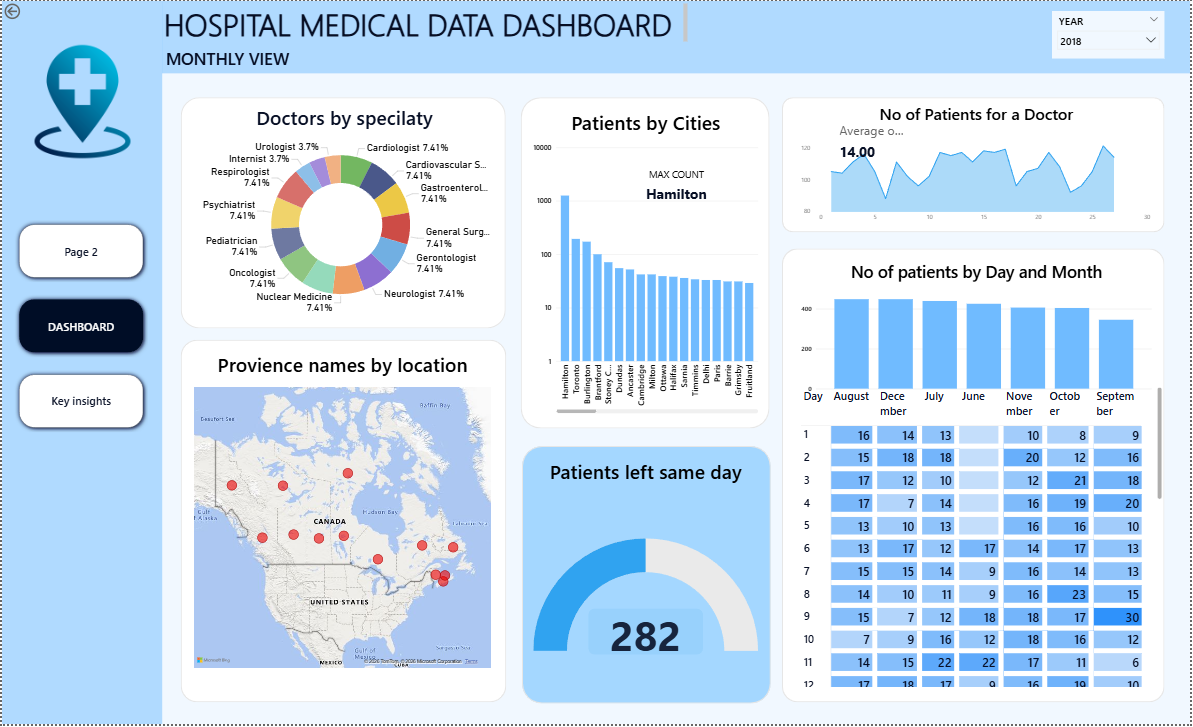

Layout of this report page (visuals, bound fields, positions):
{"tool":"powerbi","page":{"name":"DASHBOARD ","canvas":[2300,1400],"ordinal":1},"visuals":[{"type":"shape","box":[0,0,310,1400.5],"z":0},{"type":"shape","box":[308.6,0,1991.9,140.1],"z":1000},{"type":"textbox","box":[308.6,0,1021.9,85.6],"z":2000},{"type":"textbox","box":[311.2,85.6,274.9,83],"z":3000},{"type":"shape","box":[345.9,655.5,630,701.5],"z":4000},{"type":"image","box":[26.6,79.8,258.8,229.8],"z":5000},{"type":"map","fields":{"Category":["province_names.provience_name"]},"box":[367.7,742.6,582.9,590.2],"z":6000},{"type":"textbox","box":[367.7,655.5,582.9,79.8],"z":7000},{"type":"shape","box":[1509.3,478.9,740.2,878],"z":8000},{"type":"shape","box":[1509.3,186.2,740.2,261.2],"z":9000},{"type":"pivotTable","fields":{"Rows":["admissions.Day"],"Values":["admissions.No of Patients"],"Columns":["admissions.Month"]},"box":[1540.8,742.6,708.7,590.2],"z":10000},{"type":"actionButton","box":[0,0,100,40],"z":11000},{"type":"slicer","fields":{"Values":["admissions.Year"]},"box":[2031.8,19.4,217.7,91.9],"z":12000},{"type":"shape","box":[345.9,186.2,628.9,447.5],"z":13000},{"type":"columnChart","title":"No of patients by Day and Month","fields":{"Y":["admissions.No of Patients"],"Category":["admissions.Month"]},"box":[1540.8,500.7,689.4,263.7],"z":14000},{"type":"donutChart","fields":{"Category":["doctors.specialty"],"Y":["CountNonNull(doctors.doctor_id)"]},"box":[360.4,249.1,590.2,367.7],"z":15000},{"type":"shape","box":[1006.2,861.1,481.3,498.3],"z":16000},{"type":"textbox","box":[401.5,195.9,522.5,72.6],"z":17000},{"type":"shape","box":[1003.8,186.2,481.3,641],"z":18000},{"type":"gauge","fields":{"Y":["Sum(admissions.Same day)"]},"box":[1023.2,960.3,445.1,377.3],"z":19000},{"type":"clusteredColumnChart","fields":{"Category":["patients.city"],"Y":["patients.count patients"]},"box":[1023.2,268.5,445.1,534.6],"z":20000},{"type":"textbox","box":[1023.2,186.2,445.1,84.7],"z":21000},{"type":"cardVisual","fields":{"Data":["Min(patients.city name)"]},"box":[1202.1,309.6,205.6,94.3],"z":22000},{"type":"cardVisual","fields":{"Data":["CountNonNull(admissions.Same day)"]},"box":[1129.6,1170.7,232.2,99.2],"z":23000},{"type":"textbox","box":[1023.2,861.1,445.1,99.2],"z":24000},{"type":"areaChart","title":"No of Patients for a Doctor","fields":{"Category":["admissions.attending_doctor_id"],"Y":["admissions.No of Patients"]},"box":[1540.8,198.3,689.4,237],"z":25000},{"type":"cardVisual","fields":{"Data":["Avg(doctors.doctor_id)"]},"box":[1603.7,232.2,166.9,77.4],"z":26000},{"type":"pageNavigator","box":[24.2,423.3,258.8,413.6],"z":27000}]}

Visuals, with their boxes in screenshot pixels (x1, y1, x2, y2), scaled from the page's 2300x1400 canvas onto the 1193x727 screenshot:
shape: l=0, t=0, r=161, b=726
shape: l=160, t=0, r=1192, b=73
textbox: l=160, t=0, r=690, b=44
textbox: l=161, t=44, r=304, b=88
shape: l=179, t=340, r=506, b=705
image: l=14, t=41, r=148, b=161
map - province_names.provience_name: l=191, t=386, r=493, b=692
textbox: l=191, t=340, r=493, b=382
shape: l=783, t=249, r=1167, b=705
shape: l=783, t=97, r=1167, b=232
pivotTable - admissions.Day x admissions.No of Patients: l=799, t=386, r=1167, b=692
actionButton: l=0, t=0, r=52, b=21
slicer - admissions.Year: l=1054, t=10, r=1167, b=58
shape: l=179, t=97, r=506, b=329
"No of patients by Day and Month" columnChart: l=799, t=260, r=1157, b=397
donutChart - doctors.specialty x CountNonNull(doctors.doctor_id): l=187, t=129, r=493, b=320
shape: l=522, t=447, r=772, b=706
textbox: l=208, t=102, r=479, b=139
shape: l=521, t=97, r=770, b=430
gauge - Sum(admissions.Same day): l=531, t=499, r=762, b=695
clusteredColumnChart - patients.city x patients.count patients: l=531, t=139, r=762, b=417
textbox: l=531, t=97, r=762, b=141
cardVisual - Min(patients.city name): l=624, t=161, r=730, b=210
cardVisual - CountNonNull(admissions.Same day): l=586, t=608, r=706, b=659
textbox: l=531, t=447, r=762, b=499
"No of Patients for a Doctor" areaChart: l=799, t=103, r=1157, b=226
cardVisual - Avg(doctors.doctor_id): l=832, t=121, r=918, b=161
pageNavigator: l=13, t=220, r=147, b=435
